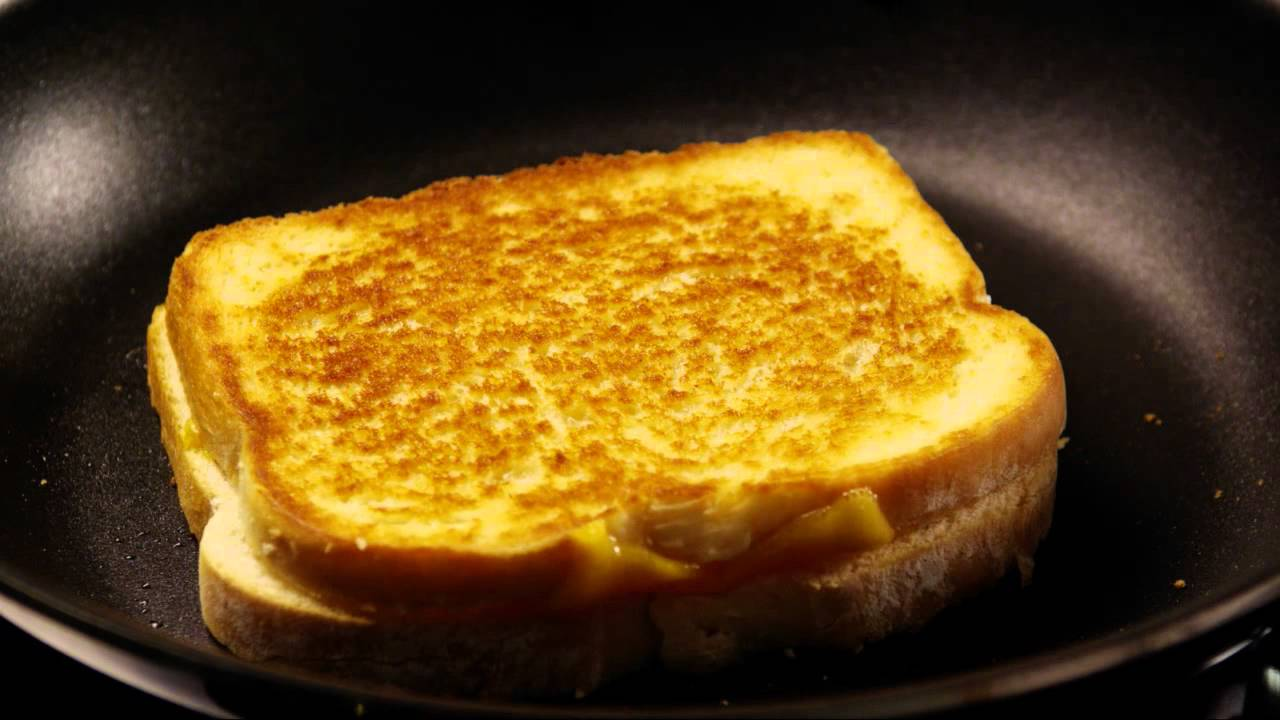cheese: (530, 457, 923, 610)
